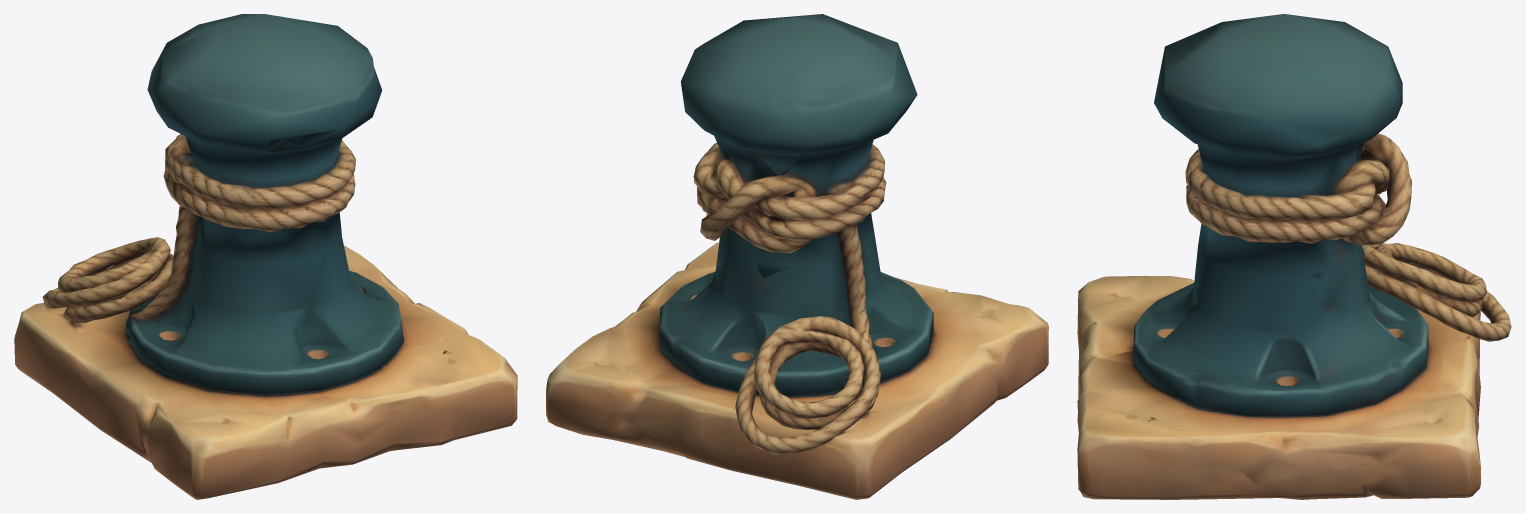
The model's file is bollard_rope.glb.
3 views of the same model, side by side, from view 1: azimuth 30°, elevation 25°; view 2: azimuth 150°, elevation 25°; view 3: azimuth 270°, elevation 25° (orthographic). The views are drawn at different scales.
Visible parts, largest first — view 1: bollard_rope; view 2: bollard_rope; view 3: bollard_rope.
Boxes of the visible parts, x1,y1,x2,y2 form: bollard_rope: (14, 14, 517, 499); bollard_rope: (546, 14, 1048, 499); bollard_rope: (1077, 14, 1511, 499).
Size of the model in its own units: 4.3 by 4.5 by 4.67.
Materials: 1 (1 with a texture image).
